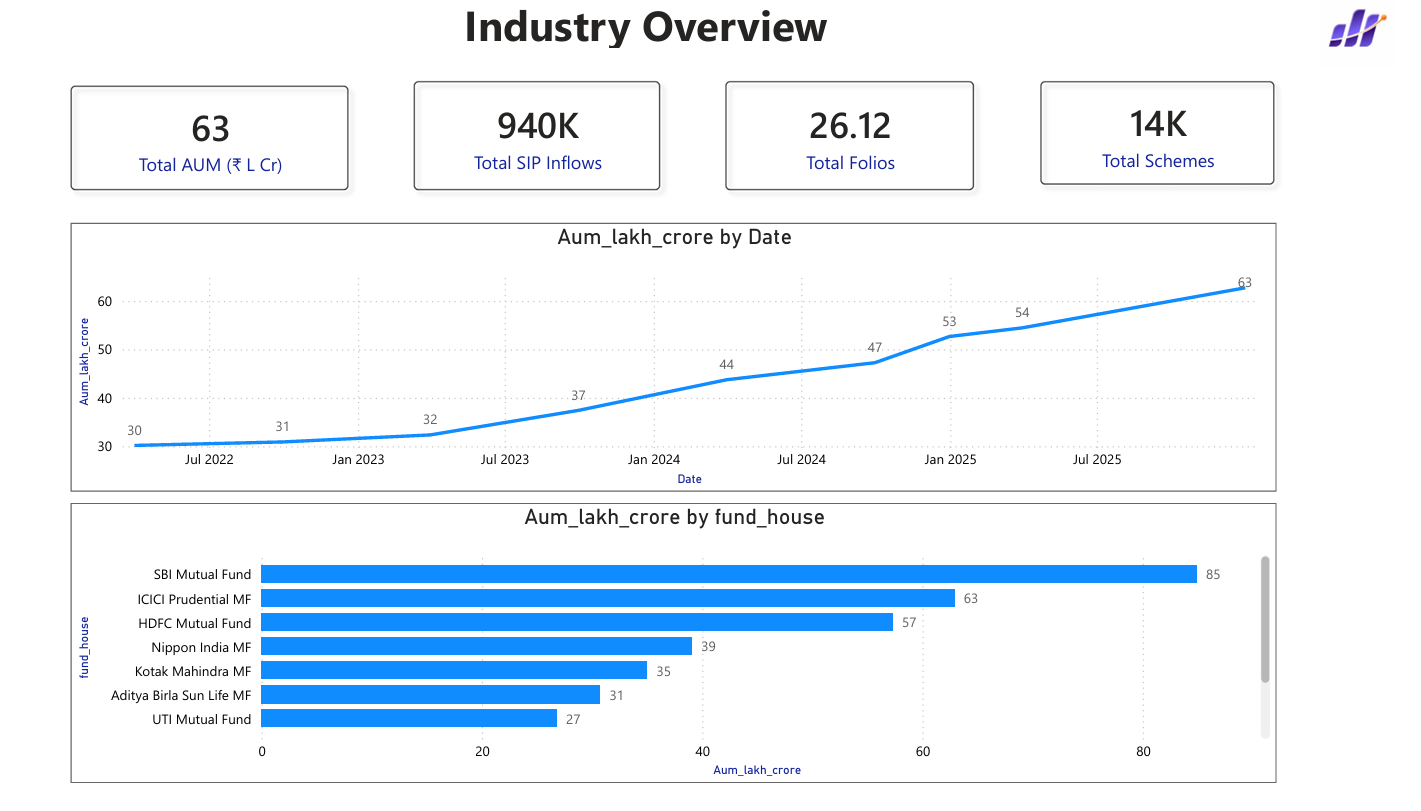

The dashboard page shown, as its layout file describes it:
{"tool":"powerbi","page":{"name":"Industry Overview","canvas":[1280,720],"ordinal":0},"visuals":[{"type":"cardVisual","fields":{"Data":["02_nav_history_cleaned.Total Folios"]},"box":[629.8,52.1,279.9,155.1],"z":0},{"type":"cardVisual","fields":{"Data":["02_nav_history_cleaned.Total SIP Inflows"]},"box":[352.7,52.1,277.2,155.1],"z":1000},{"type":"cardVisual","fields":{"Data":["02_nav_history_cleaned.Total Schemes"]},"box":[909.8,52.1,266.2,150.9],"z":2000},{"type":"lineChart","title":"Aum_lakh_crore by Date","fields":{"Category":["aum_cleaned.date"],"Y":["Sum(aum_cleaned.aum_lakh_crore)"]},"box":[76.8,207.2,1071.7,238.8],"z":3000},{"type":"barChart","fields":{"Y":["Sum(aum_cleaned.aum_lakh_crore)"],"Category":["aum_cleaned.fund_house"]},"box":[76.8,455.6,1071.7,249.7],"z":4000},{"type":"textbox","box":[48,0,1173.2,56.3],"z":5000},{"type":"cardVisual","fields":{"Data":["02_nav_history_cleaned.Total AUM"]},"box":[48,56,305,151],"z":6000},{"type":"image","box":[1182.7,0,76.4,67.9],"z":6001}]}

Visuals, with their boxes in screenshot pixels (x1, y1, x2, y2), scaled from the page's 1280x720 canvas onto the 1421x811 screenshot:
cardVisual - 02_nav_history_cleaned.Total Folios: (left=699, top=59, right=1010, bottom=233)
cardVisual - 02_nav_history_cleaned.Total SIP Inflows: (left=392, top=59, right=699, bottom=233)
cardVisual - 02_nav_history_cleaned.Total Schemes: (left=1010, top=59, right=1306, bottom=229)
"Aum_lakh_crore by Date" lineChart: (left=85, top=233, right=1275, bottom=502)
barChart - Sum(aum_cleaned.aum_lakh_crore) x aum_cleaned.fund_house: (left=85, top=513, right=1275, bottom=794)
textbox: (left=53, top=0, right=1356, bottom=63)
cardVisual - 02_nav_history_cleaned.Total AUM: (left=53, top=63, right=392, bottom=233)
image: (left=1313, top=0, right=1398, bottom=76)
